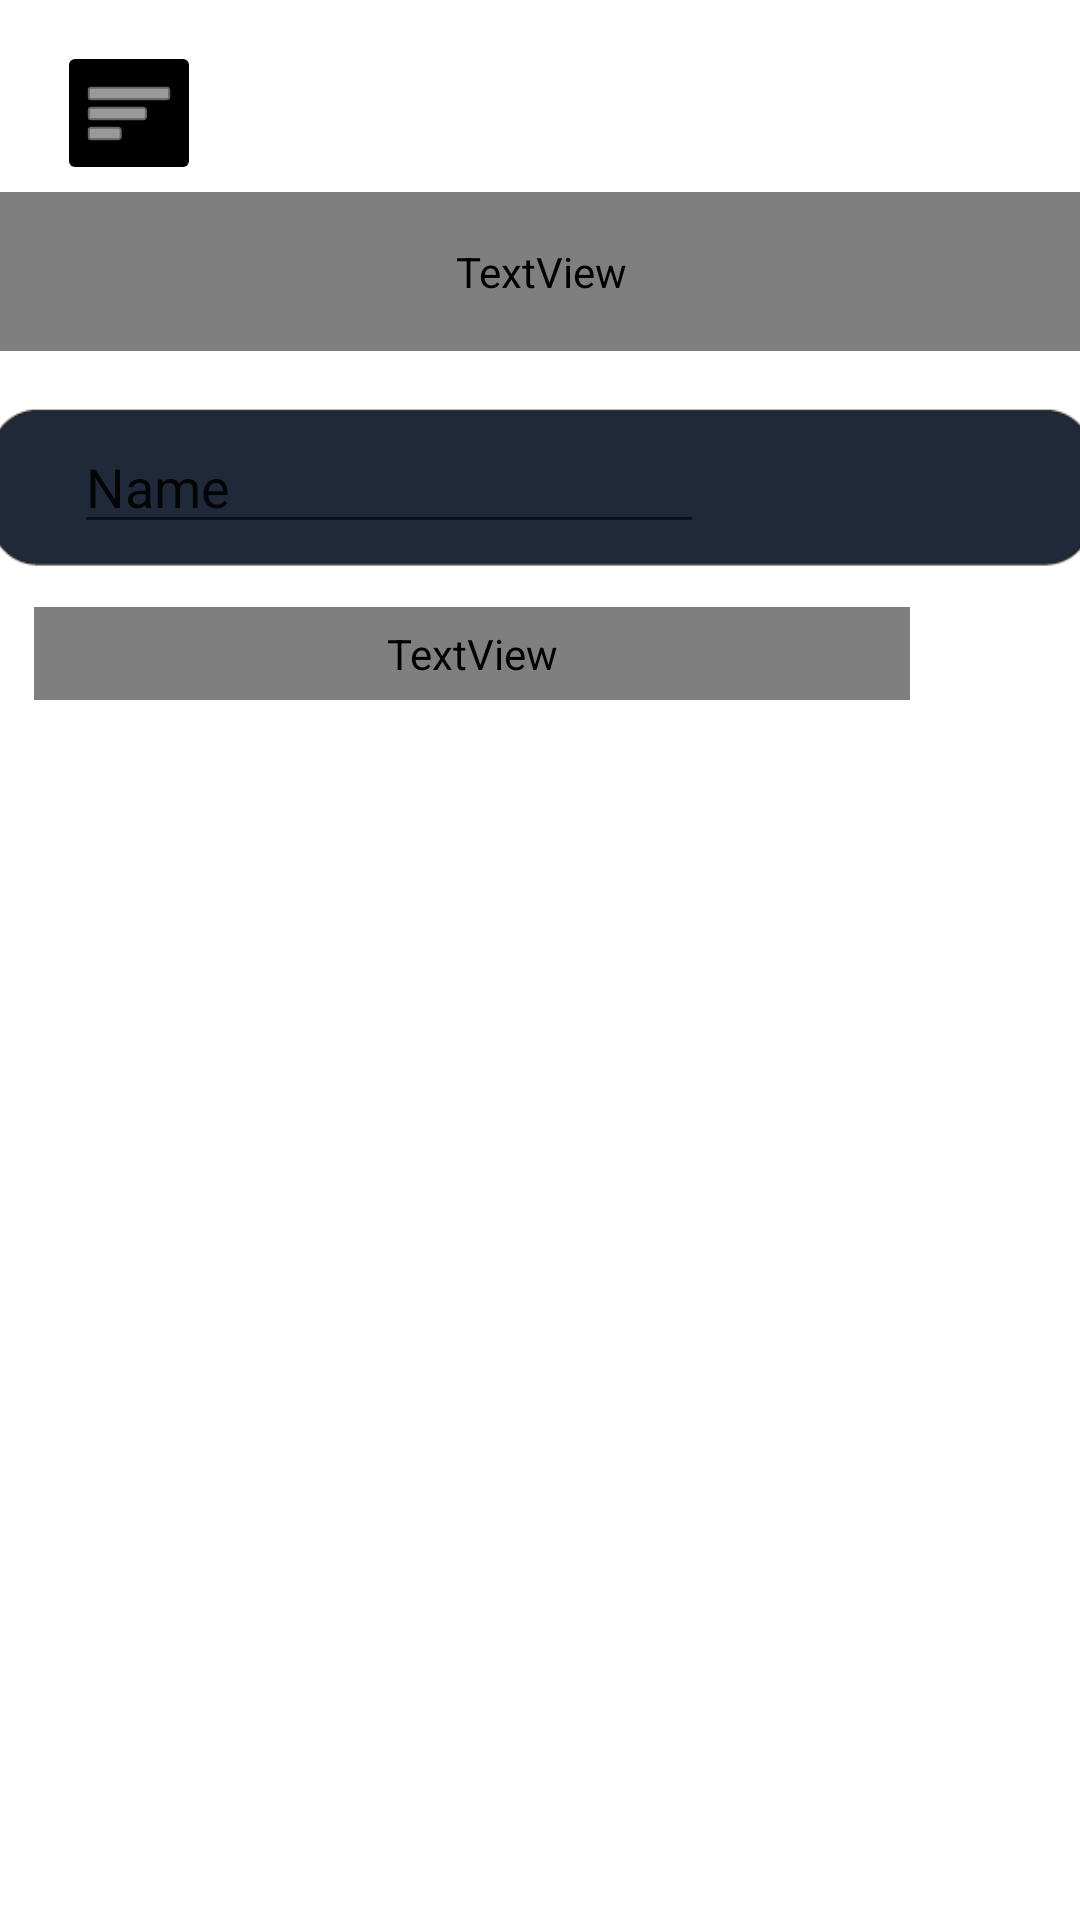

Screen size 1080px×1920px. Icon name, then its center in pixels as (x,y):
sort by size: (129,113)
